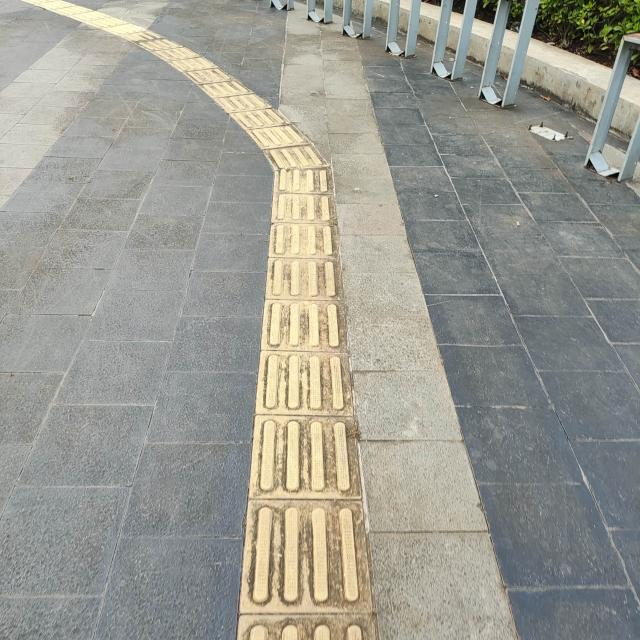lurus: (254, 157, 359, 640)
